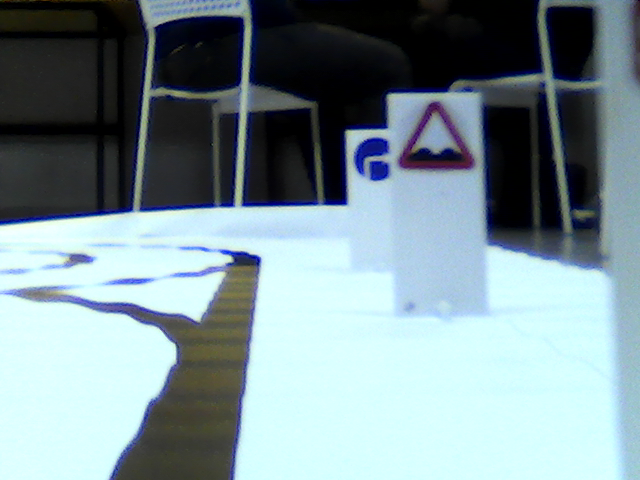Nerov: (399, 101, 473, 172)
Right: (353, 136, 392, 182)
